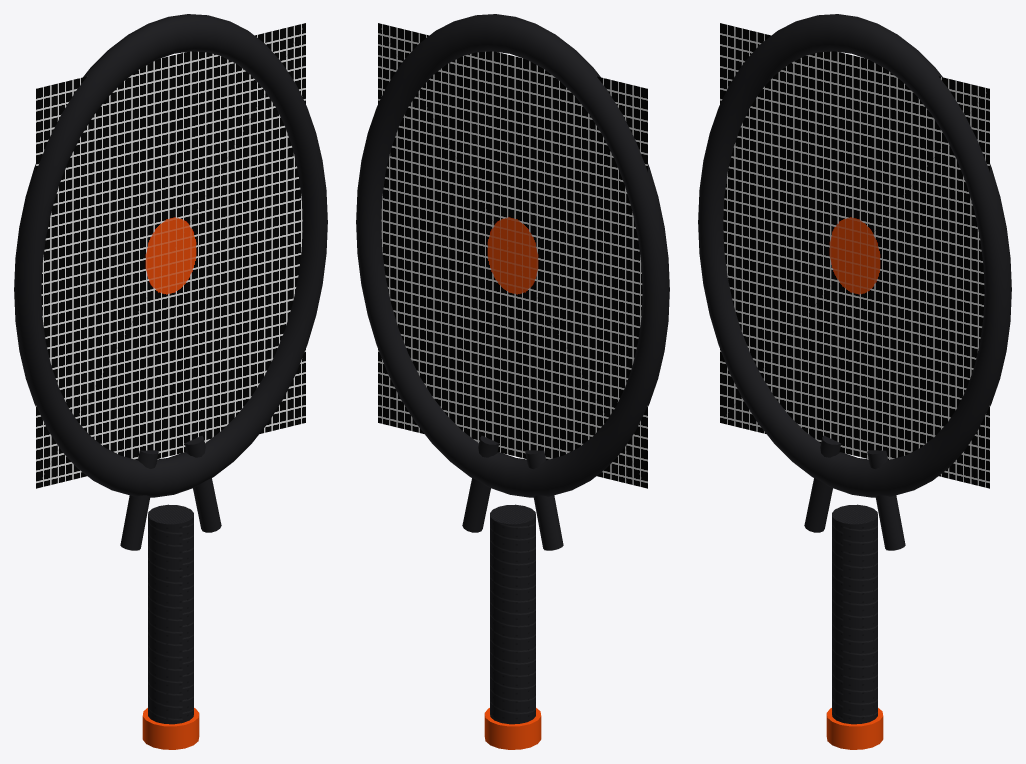
The model's file is racket.glb.
The picture shows the model from 3 angles, left to right: view 1: azimuth 30°, elevation 25°; view 2: azimuth 150°, elevation 25°; view 3: azimuth 330°, elevation 25°; orthographic projection.
Size of the model in its own units: 1.38 by 3.06 by 0.22.
4 materials, 2 textured.
